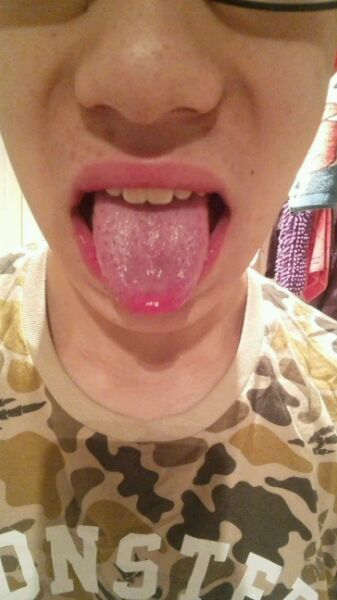baitaishe: (91, 189, 209, 313)
hongshe: (91, 189, 209, 313)
